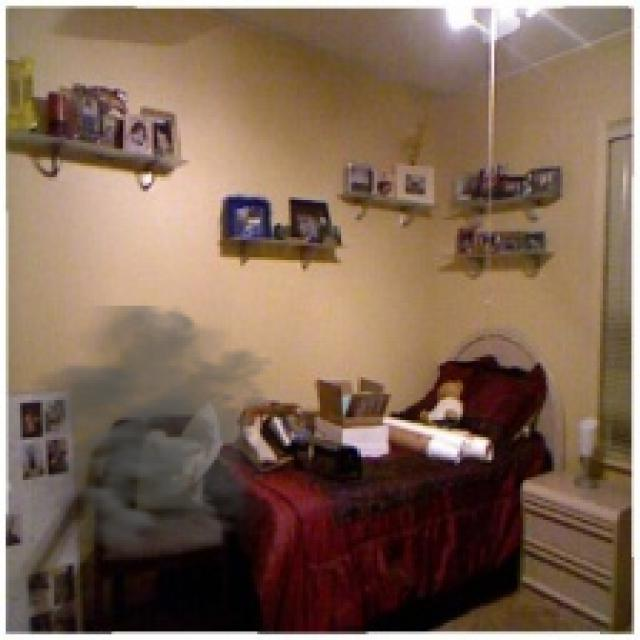smoke: (31, 306, 300, 571)
